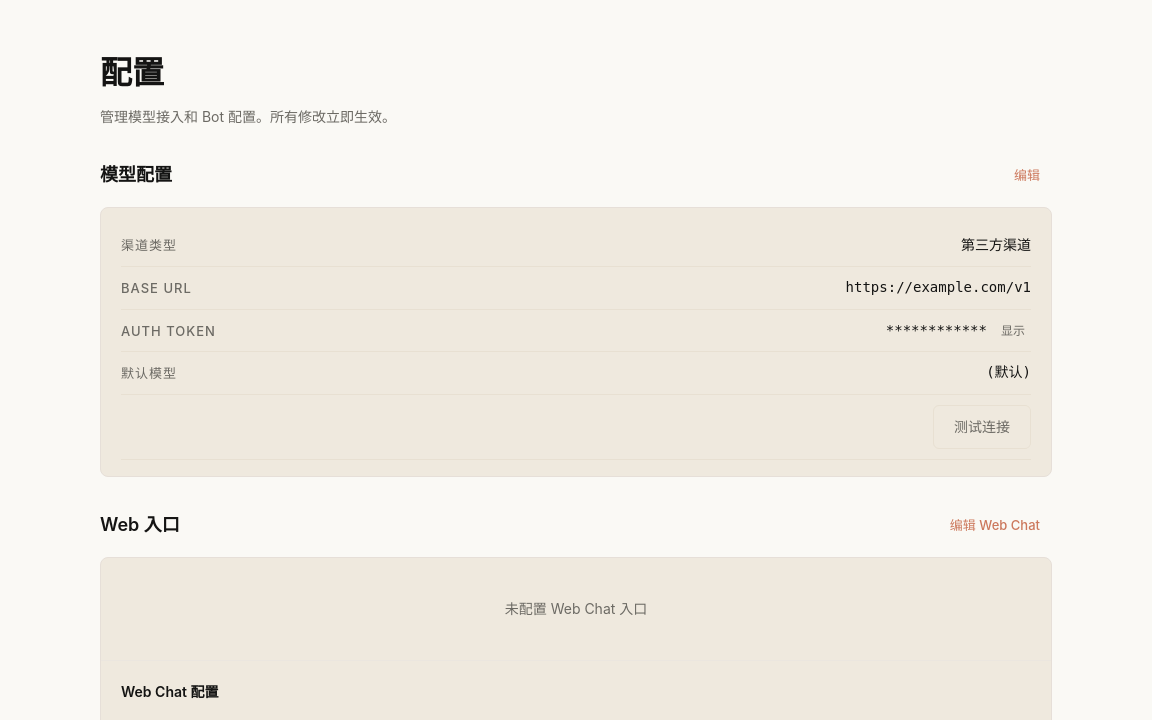
Test case: Config Page › Model Config Section › renders model config form with current values
Expected: the heading "模型配置" is shown, [100, 161, 172, 189]
# Switch to edit mode first
Click the button "编辑" at (1027,175), box [1002, 159, 1052, 191]
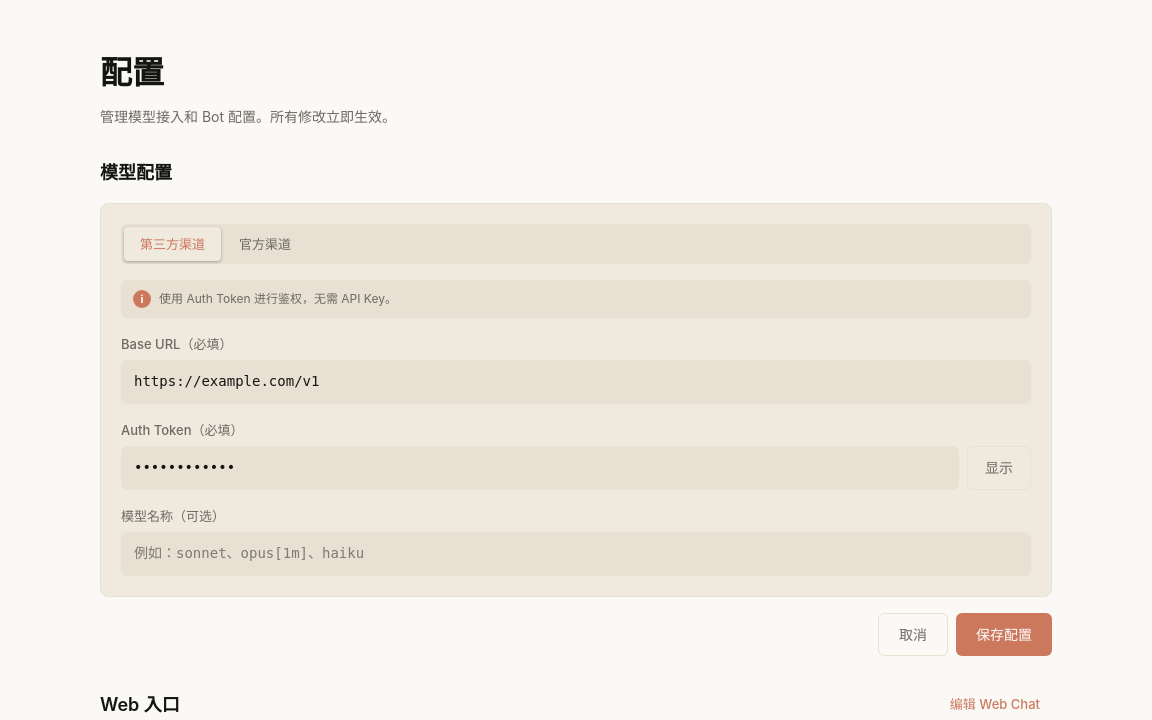
Expected: the field with placeholder "https://your-relay.example.com/v1" holds "https://example.com/v1", [121, 360, 1031, 404]
